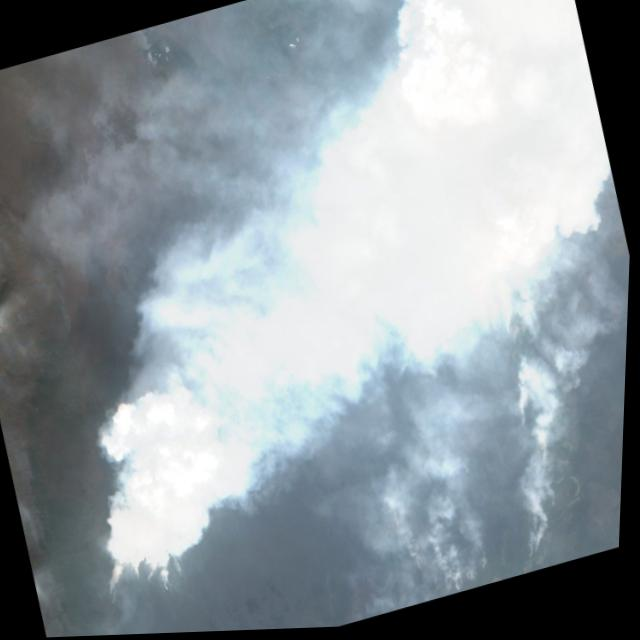fire: (0, 74, 624, 639)
